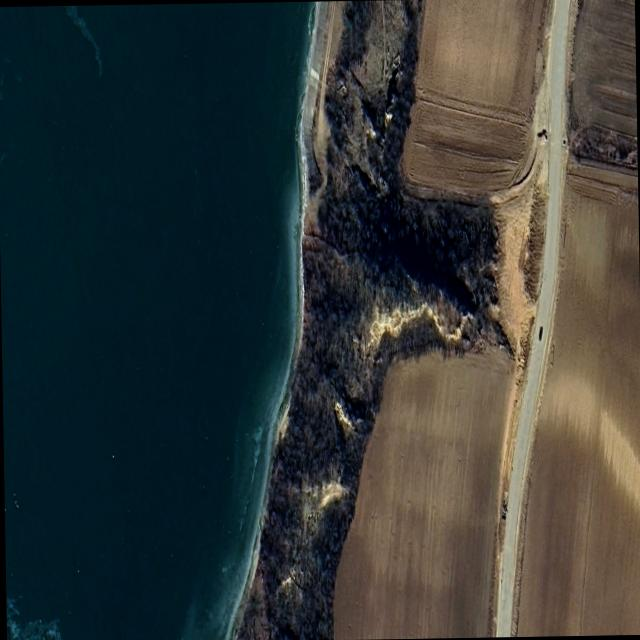bare-soil: (334, 0, 551, 637), (513, 0, 640, 635), (300, 1, 346, 229)
building: (494, 0, 569, 637)
tree: (233, 0, 500, 640)
water: (0, 1, 321, 640)
